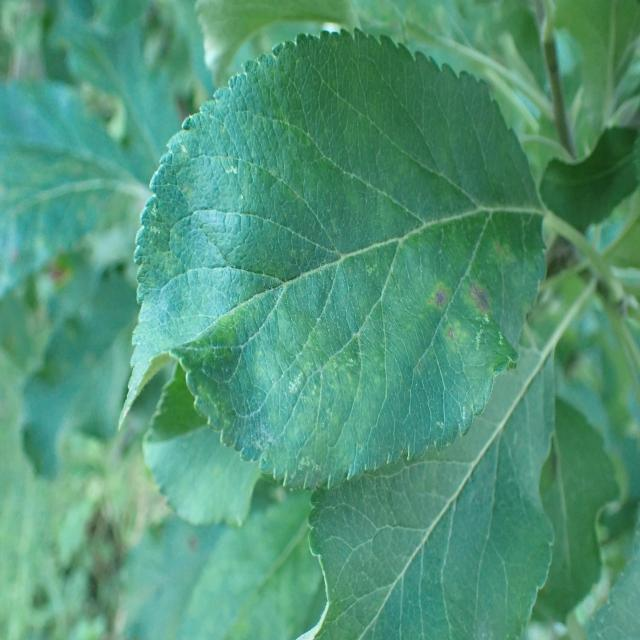scab: (151, 137, 515, 436)
